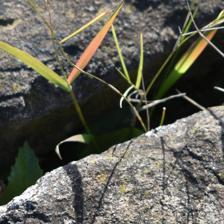Crack: (2, 17, 219, 192)
